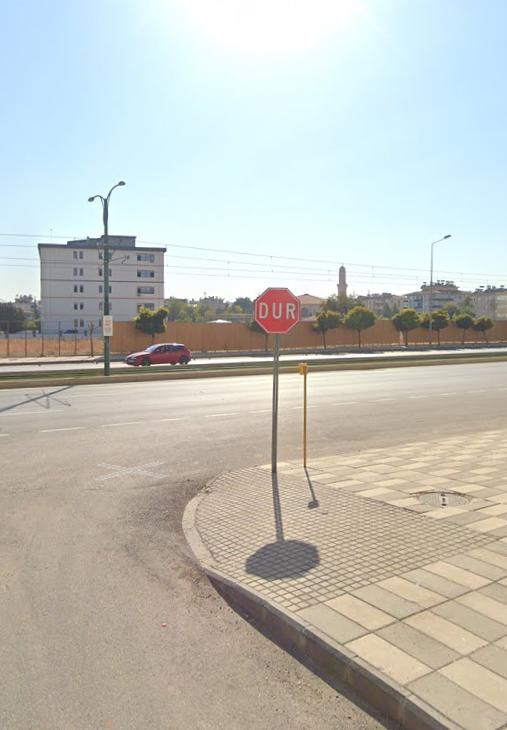stop: (254, 286, 301, 333)
